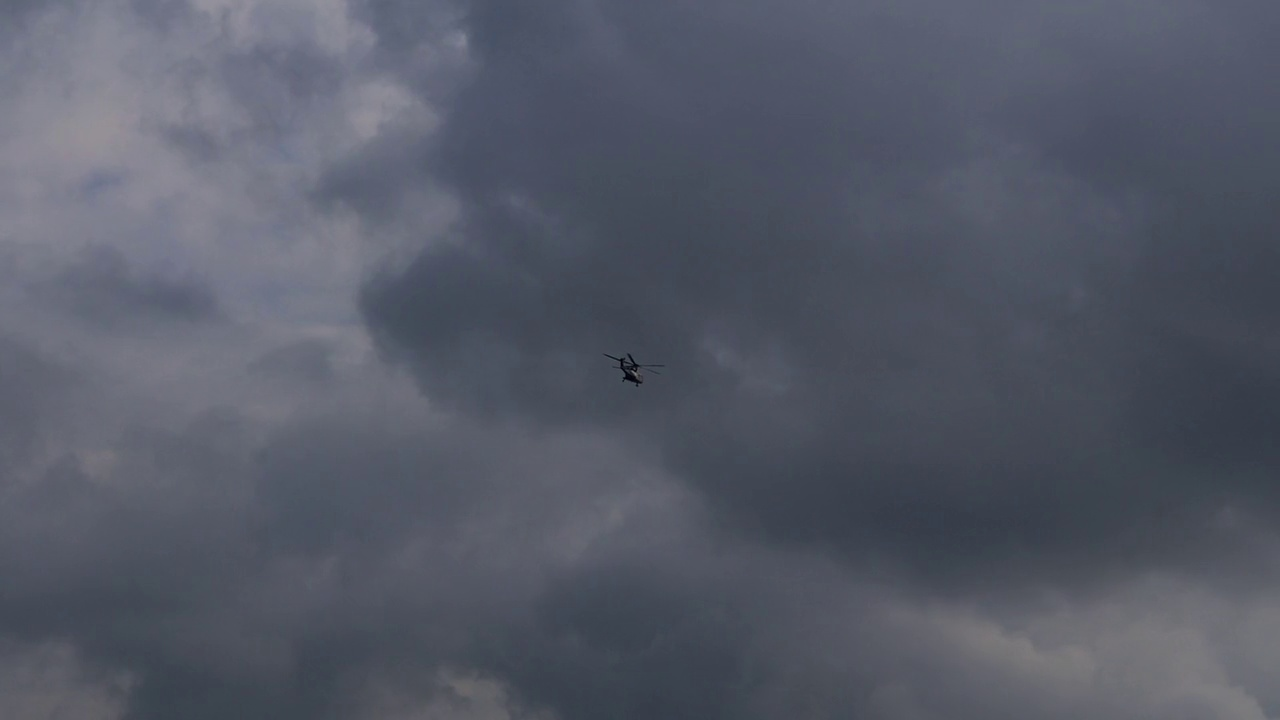heli: (604, 349, 664, 388)
